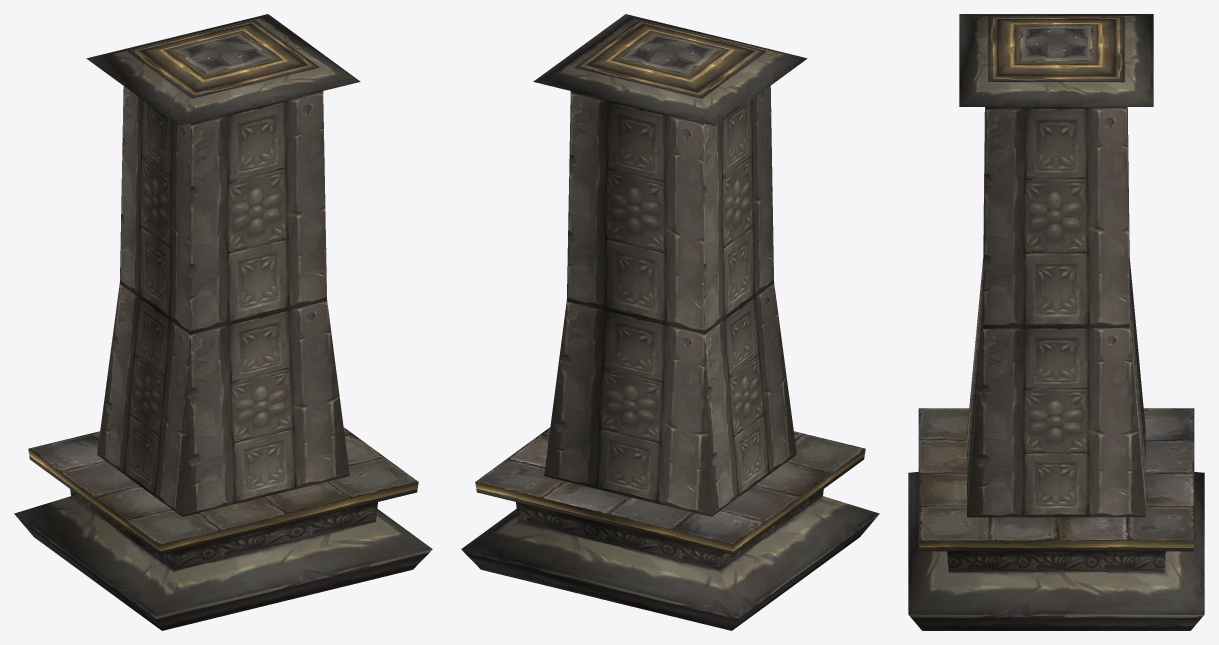
Rendered from ti_shrine_01.obj.
3 renders of one model, left to right at view 1: azimuth 30°, elevation 25°; view 2: azimuth 150°, elevation 25°; view 3: azimuth 270°, elevation 25°, orthographic. The views are drawn at different scales.
Visible parts, largest first — view 1: Geoset0, Geoset2, Geoset4, Geoset3, Geoset1; view 2: Geoset0, Geoset2, Geoset4, Geoset3, Geoset1; view 3: Geoset0, Geoset2, Geoset4, Geoset3, Geoset1.
Part boxes in pixels (box(x1,y1,x2,y2)): Geoset0: box(97, 86, 349, 516); Geoset2: box(14, 14, 432, 630); Geoset4: box(28, 427, 418, 544); Geoset3: box(28, 20, 418, 554); Geoset1: box(70, 489, 377, 571); Geoset0: box(544, 86, 796, 516); Geoset2: box(461, 14, 879, 630); Geoset4: box(475, 427, 865, 544); Geoset3: box(475, 20, 865, 554); Geoset1: box(516, 489, 823, 571); Geoset0: box(967, 107, 1145, 517); Geoset2: box(908, 14, 1204, 630); Geoset4: box(918, 408, 1194, 540); Geoset3: box(918, 16, 1194, 551); Geoset1: box(947, 551, 1165, 571).
Size of the model in its own units: 9.94 by 17.29 by 8.76.
Materials: 5 (5 with a texture image).
